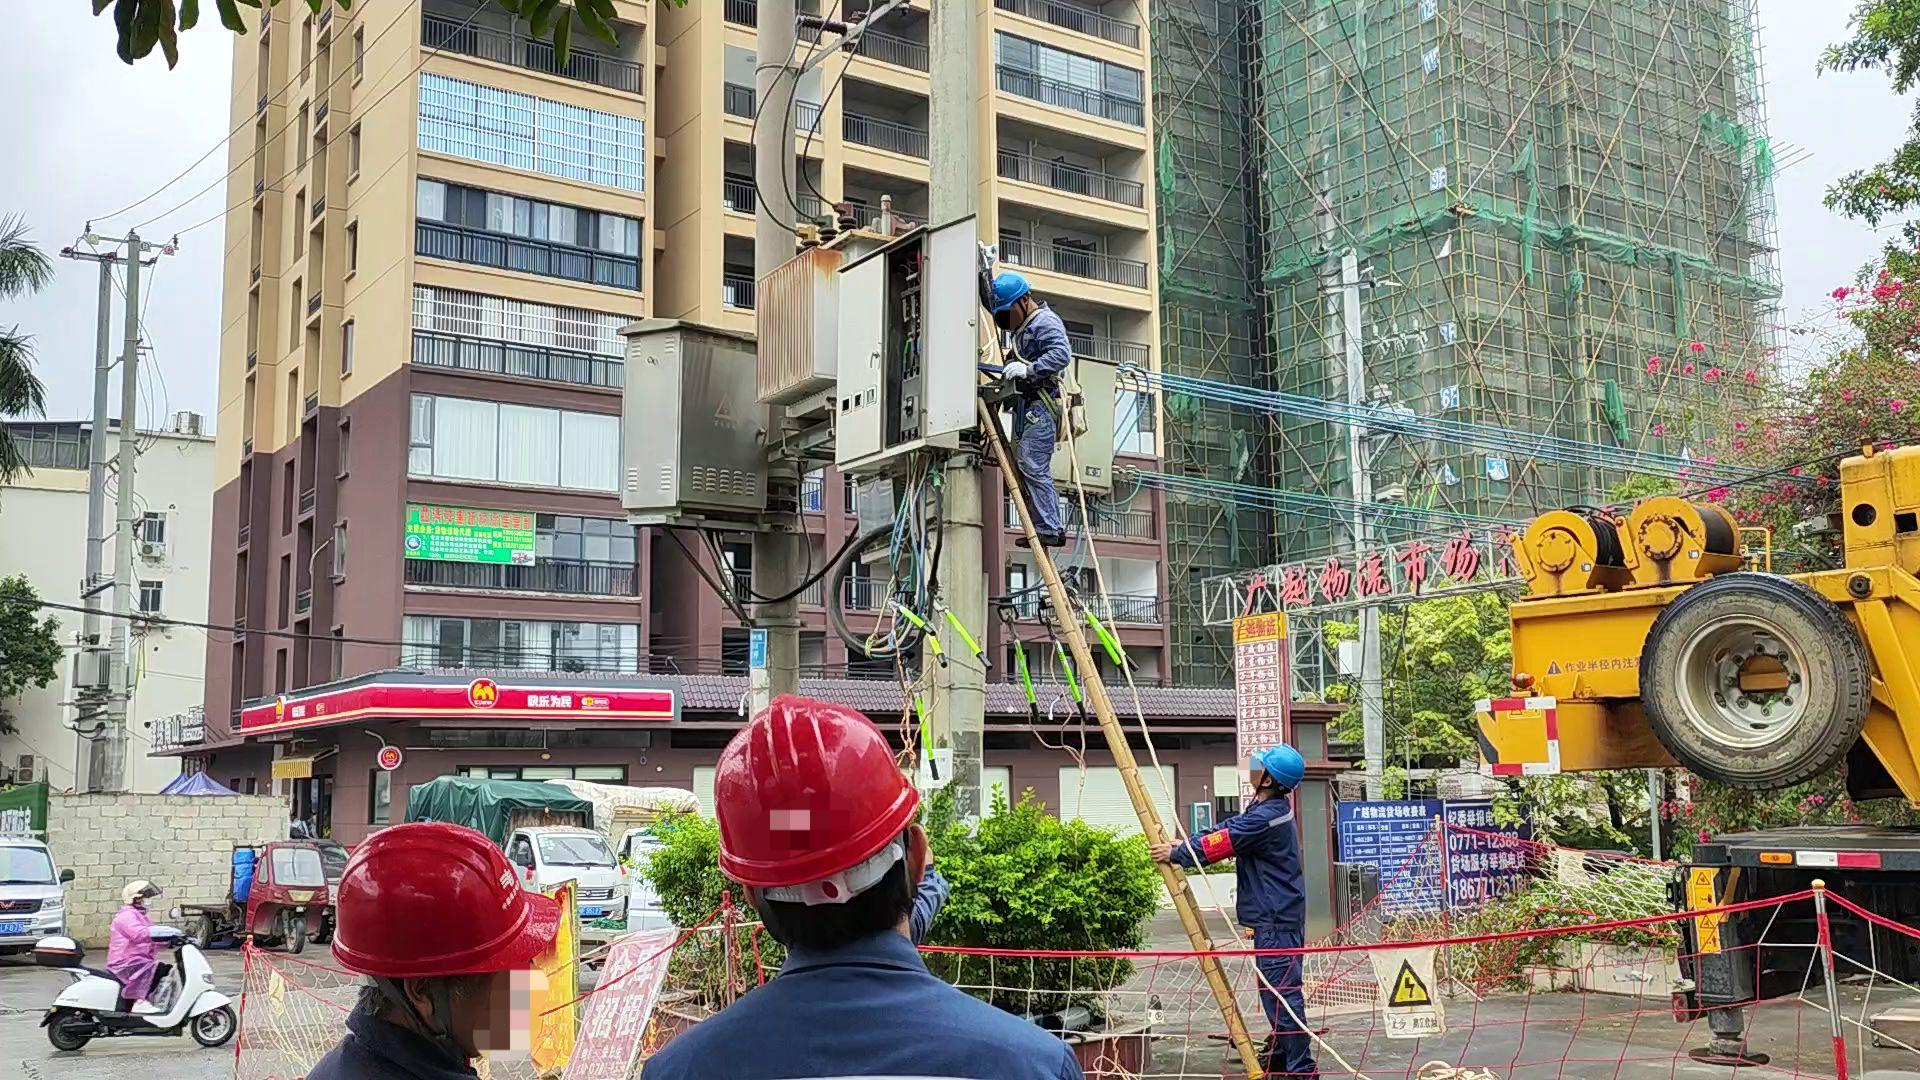halt: (713, 698, 938, 956), (334, 825, 558, 1071), (1255, 746, 1309, 796), (992, 274, 1038, 328)
inear: (392, 977, 458, 1038), (895, 822, 948, 893), (1018, 294, 1036, 313)
